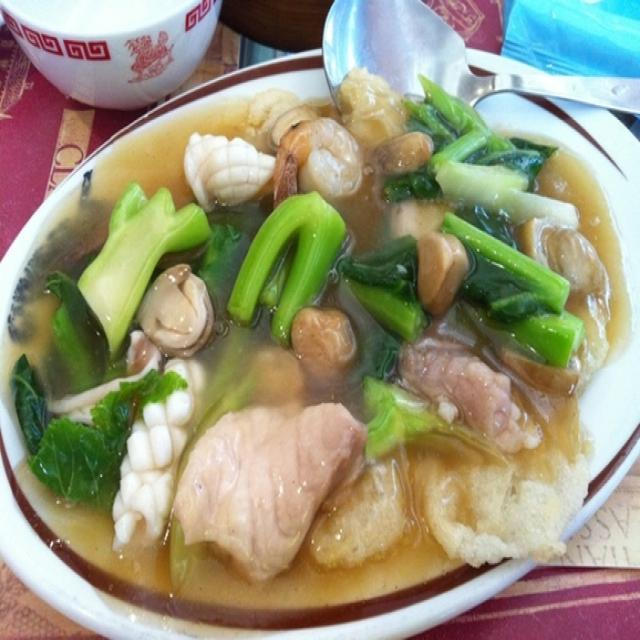面条主食: (31, 53, 603, 594)
